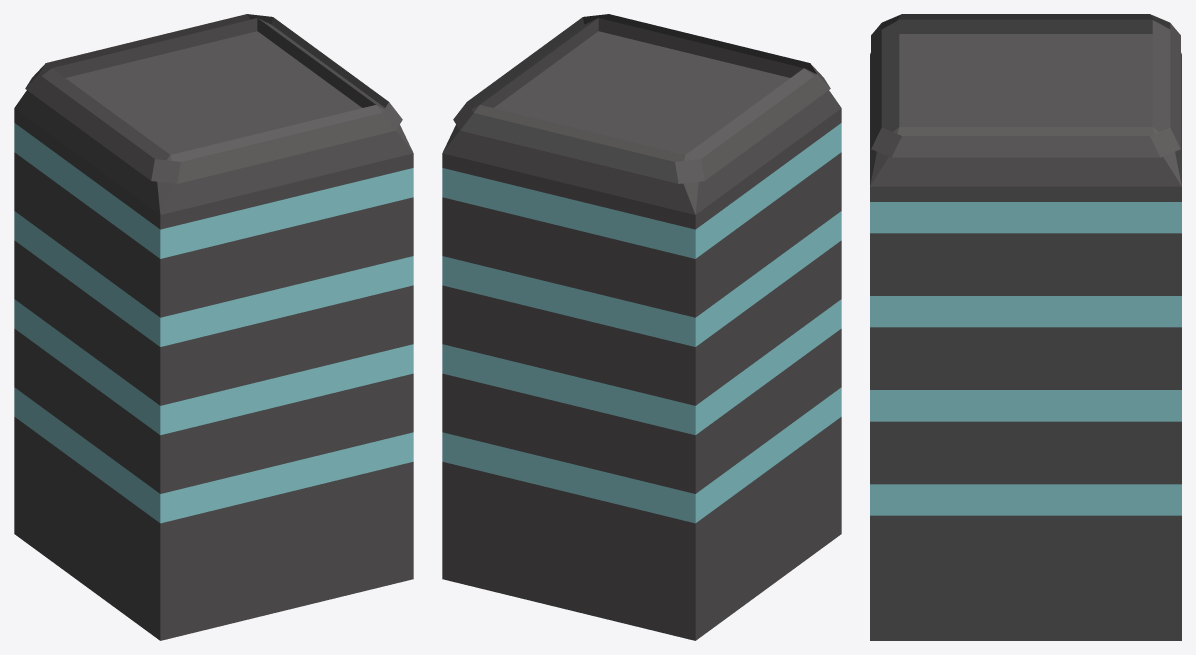
3 views of the same model, side by side, from view 1: azimuth 30°, elevation 25°; view 2: azimuth 150°, elevation 25°; view 3: azimuth 270°, elevation 25° (orthographic). The views are drawn at different scales.
Parts seen in each view (by area): view 1: Kostka; view 2: Kostka; view 3: Kostka.
Boxes of the visible parts, <box> form: Kostka: <box>14,14,413,640</box>; Kostka: <box>442,14,841,640</box>; Kostka: <box>870,14,1181,640</box>.
Bounding box in the file's own units: 93.07 × 165 × 93.
